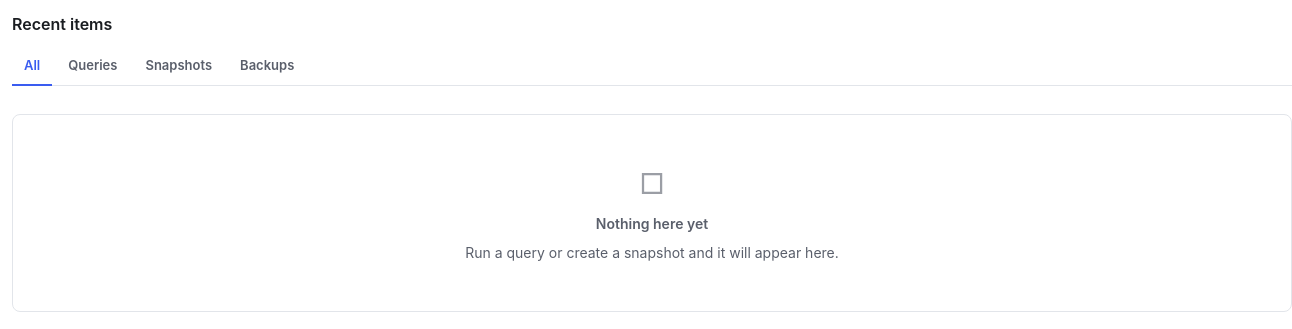
Test: Recent items › a reader is told backups are admin-only instead of seeing an error
What coordinates should you click on to do the following:
click the tab "Backups"
I would click on:
 (267, 67)
Its box is [228, 48, 306, 86].
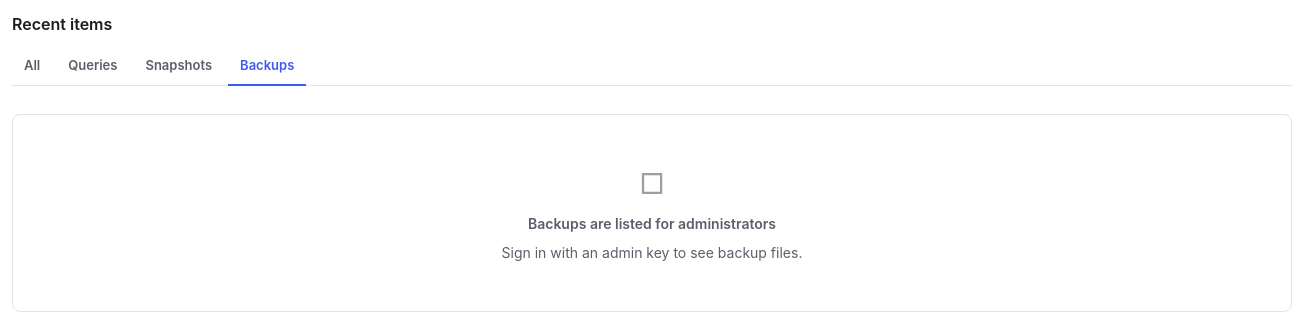
Expected: the text "Backups are listed for administrators" is shown, [528, 212, 776, 234]
